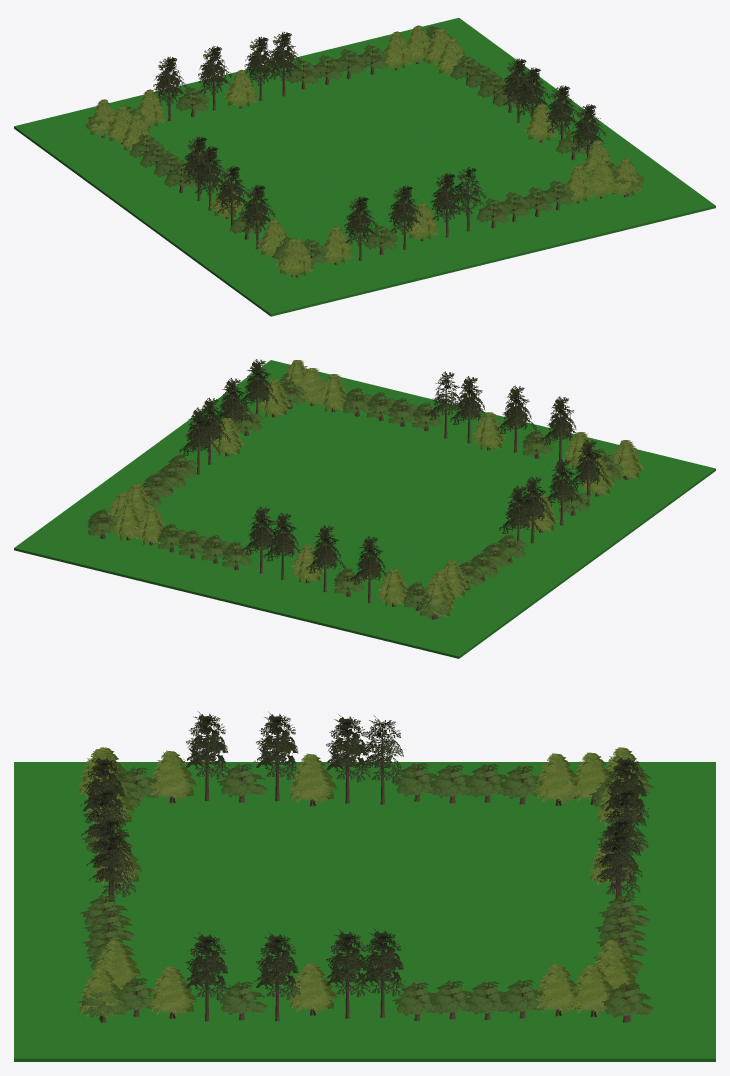
Rendered from Forest.fbx.
3 renders of one model, top to bottom at view 1: azimuth 30°, elevation 25°; view 2: azimuth 150°, elevation 25°; view 3: azimuth 270°, elevation 25°, orthographic. The views are drawn at different scales.
Parts seen in each view (by area): view 1: Floor, Pine_Tree_LOD0, Pine_Tree_LOD0_12, Pine_Tree_LOD0_14, Pine_Tree_LOD0_8, Pine_Tree_LOD0_9, Pine_Tree_LOD0_4, Pine_Tree_LOD0_13, Pine_Tree_LOD0_10, Pine_Tree_LOD0_6, Pine_Tree_LOD0_1, Pine_Tree_LOD0_5 (+35 smaller); view 2: Floor, Pine_Tree_LOD0, Pine_Tree_LOD0_8, Pine_Tree_LOD0_3, Pine_Tree_LOD0_9, Pine_Tree_LOD0_10, Pine_Tree_LOD0_13, Pine_Tree_LOD0_5, Pine_Tree_LOD0_12, Pine_Tree_LOD0_2, Pine_Tree_LOD0_4, Pine_Tree_LOD0_14 (+26 smaller); view 3: Floor, Pine_Tree_LOD0_2, Pine_Tree_LOD0, Pine_Tree_LOD0_1, Pine_Tree_LOD0_15, Pine_Tree_LOD0_11, Pine_Tree_LOD0_14, Pine_Tree_LOD0_10, Pine_Tree_LOD0_6, Pine_Tree_LOD0_7, Pine_Tree_LOD0_3, Larch_Tree_LOD0_10 (+45 smaller).
Boxes of the visible parts, left/top/right/bottom form: Floor: left=14, top=18, right=715, bottom=316; Pine_Tree_LOD0: left=453, top=167, right=486, bottom=231; Pine_Tree_LOD0_12: left=344, top=196, right=378, bottom=260; Pine_Tree_LOD0_14: left=241, top=185, right=275, bottom=249; Pine_Tree_LOD0_8: left=388, top=185, right=422, bottom=249; Pine_Tree_LOD0_9: left=198, top=46, right=232, bottom=110; Pine_Tree_LOD0_4: left=431, top=173, right=464, bottom=237; Pine_Tree_LOD0_13: left=153, top=56, right=187, bottom=121; Pine_Tree_LOD0_10: left=216, top=166, right=249, bottom=225; Pine_Tree_LOD0_6: left=193, top=146, right=227, bottom=210; Pine_Tree_LOD0_1: left=269, top=32, right=301, bottom=96; Pine_Tree_LOD0_5: left=244, top=36, right=278, bottom=101; Floor: left=14, top=360, right=715, bottom=658; Pine_Tree_LOD0: left=427, top=371, right=466, bottom=438; Pine_Tree_LOD0_8: left=497, top=385, right=536, bottom=452; Pine_Tree_LOD0_3: left=179, top=407, right=219, bottom=474; Pine_Tree_LOD0_9: left=306, top=525, right=346, bottom=592; Pine_Tree_LOD0_10: left=547, top=458, right=582, bottom=525; Pine_Tree_LOD0_13: left=350, top=536, right=386, bottom=603; Pine_Tree_LOD0_5: left=263, top=512, right=300, bottom=579; Pine_Tree_LOD0_12: left=541, top=396, right=576, bottom=462; Pine_Tree_LOD0_2: left=499, top=485, right=539, bottom=549; Pine_Tree_LOD0_4: left=450, top=376, right=484, bottom=443; Pine_Tree_LOD0_14: left=568, top=439, right=608, bottom=506; Floor: left=14, top=762, right=715, bottom=1061; Pine_Tree_LOD0_2: left=358, top=715, right=405, bottom=804; Pine_Tree_LOD0: left=89, top=829, right=135, bottom=906; Pine_Tree_LOD0_1: left=593, top=829, right=640, bottom=909; Pine_Tree_LOD0_15: left=184, top=932, right=229, bottom=1021; Pine_Tree_LOD0_11: left=253, top=931, right=300, bottom=1021; Pine_Tree_LOD0_14: left=184, top=711, right=230, bottom=801; Pine_Tree_LOD0_10: left=253, top=711, right=299, bottom=801; Pine_Tree_LOD0_6: left=324, top=714, right=370, bottom=803; Pine_Tree_LOD0_7: left=325, top=929, right=370, bottom=1018; Pine_Tree_LOD0_3: left=361, top=928, right=405, bottom=1017; Larch_Tree_LOD0_10: left=288, top=753, right=335, bottom=806.
Size of what is drawn, in the model's own units: 200 by 32.96 by 200.
Materials: 3 (3 with a texture image).
